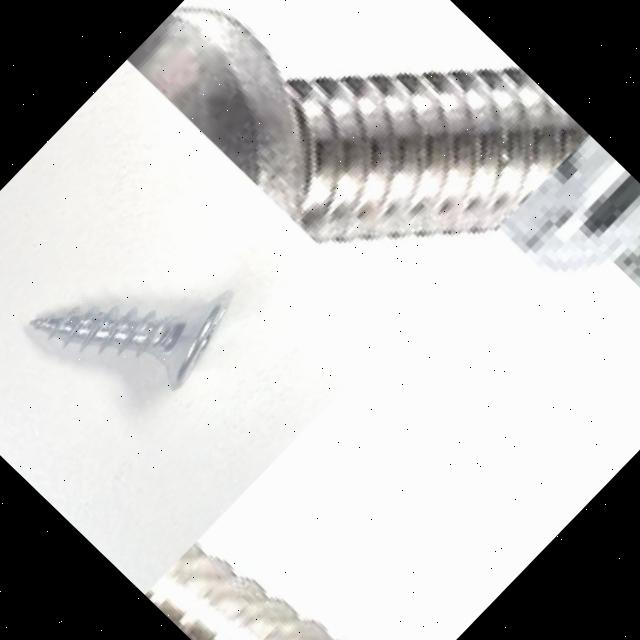Screw: (126, 7, 589, 242), (499, 135, 640, 288), (144, 542, 351, 640), (30, 292, 232, 392)
